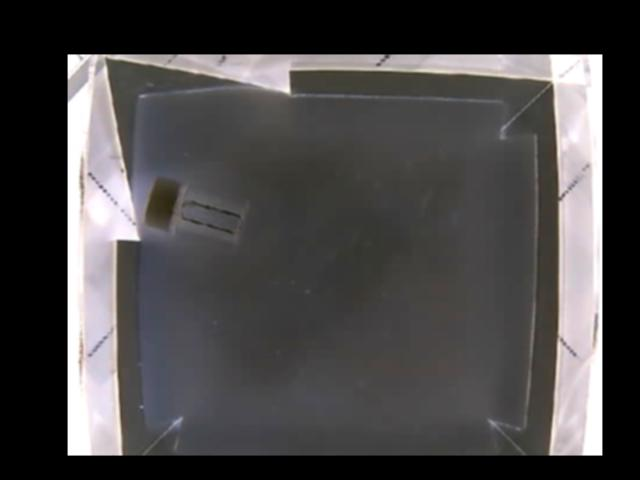Bottle: (139, 177, 247, 249)
